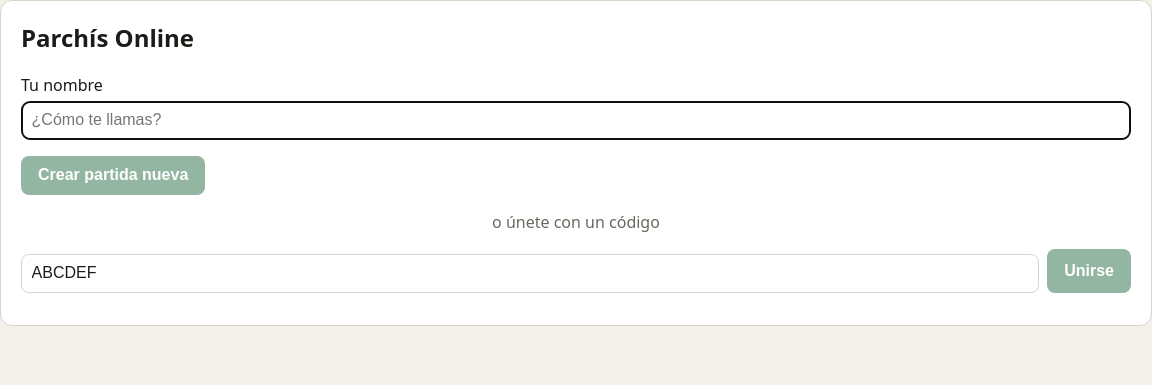
Test: PantallaInicio › muestra el error del servidor al unirse a una sala inexistente
The image size is (1152, 385).
Type "Ana" into the field with placeholder "¿Cómo te llamas?" at (576, 120), box x1=21 y1=101 x2=1131 y2=140
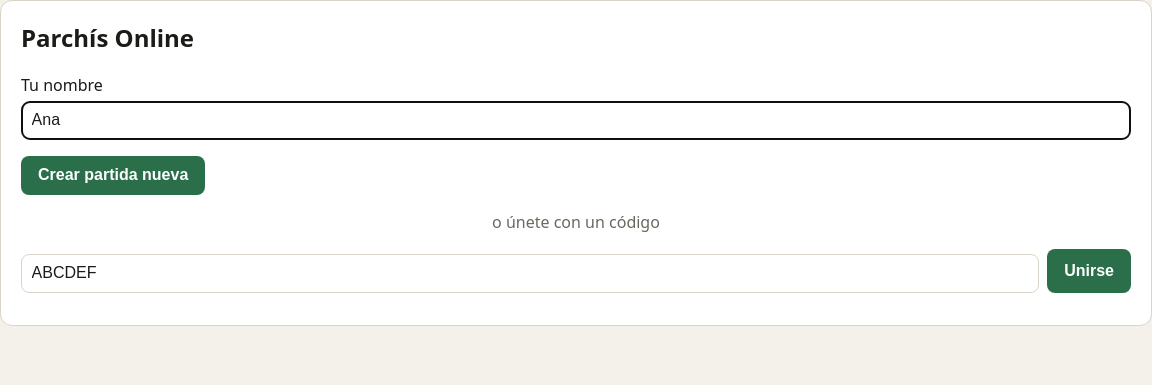
Click the button "Unirse" at (1089, 271), box x1=1047 y1=249 x2=1131 y2=293
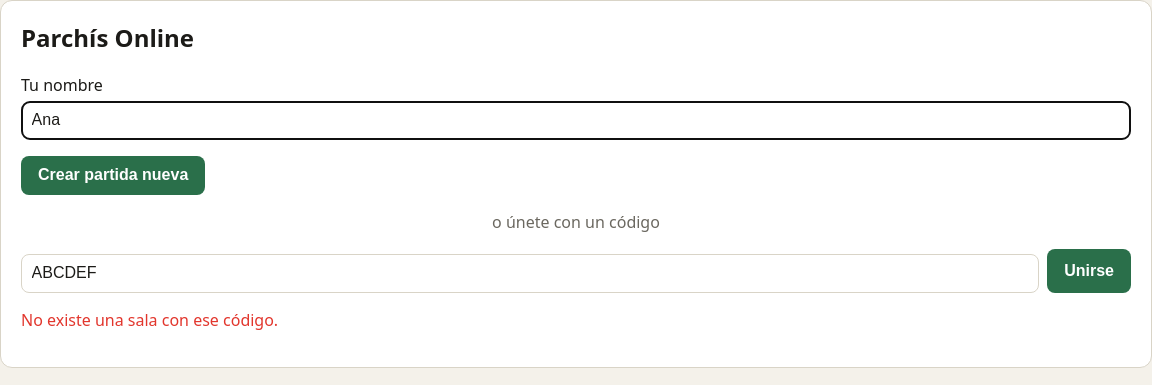
Expected: the message reads "No existe una sala con ese código.", x1=21 y1=309 x2=278 y2=331
